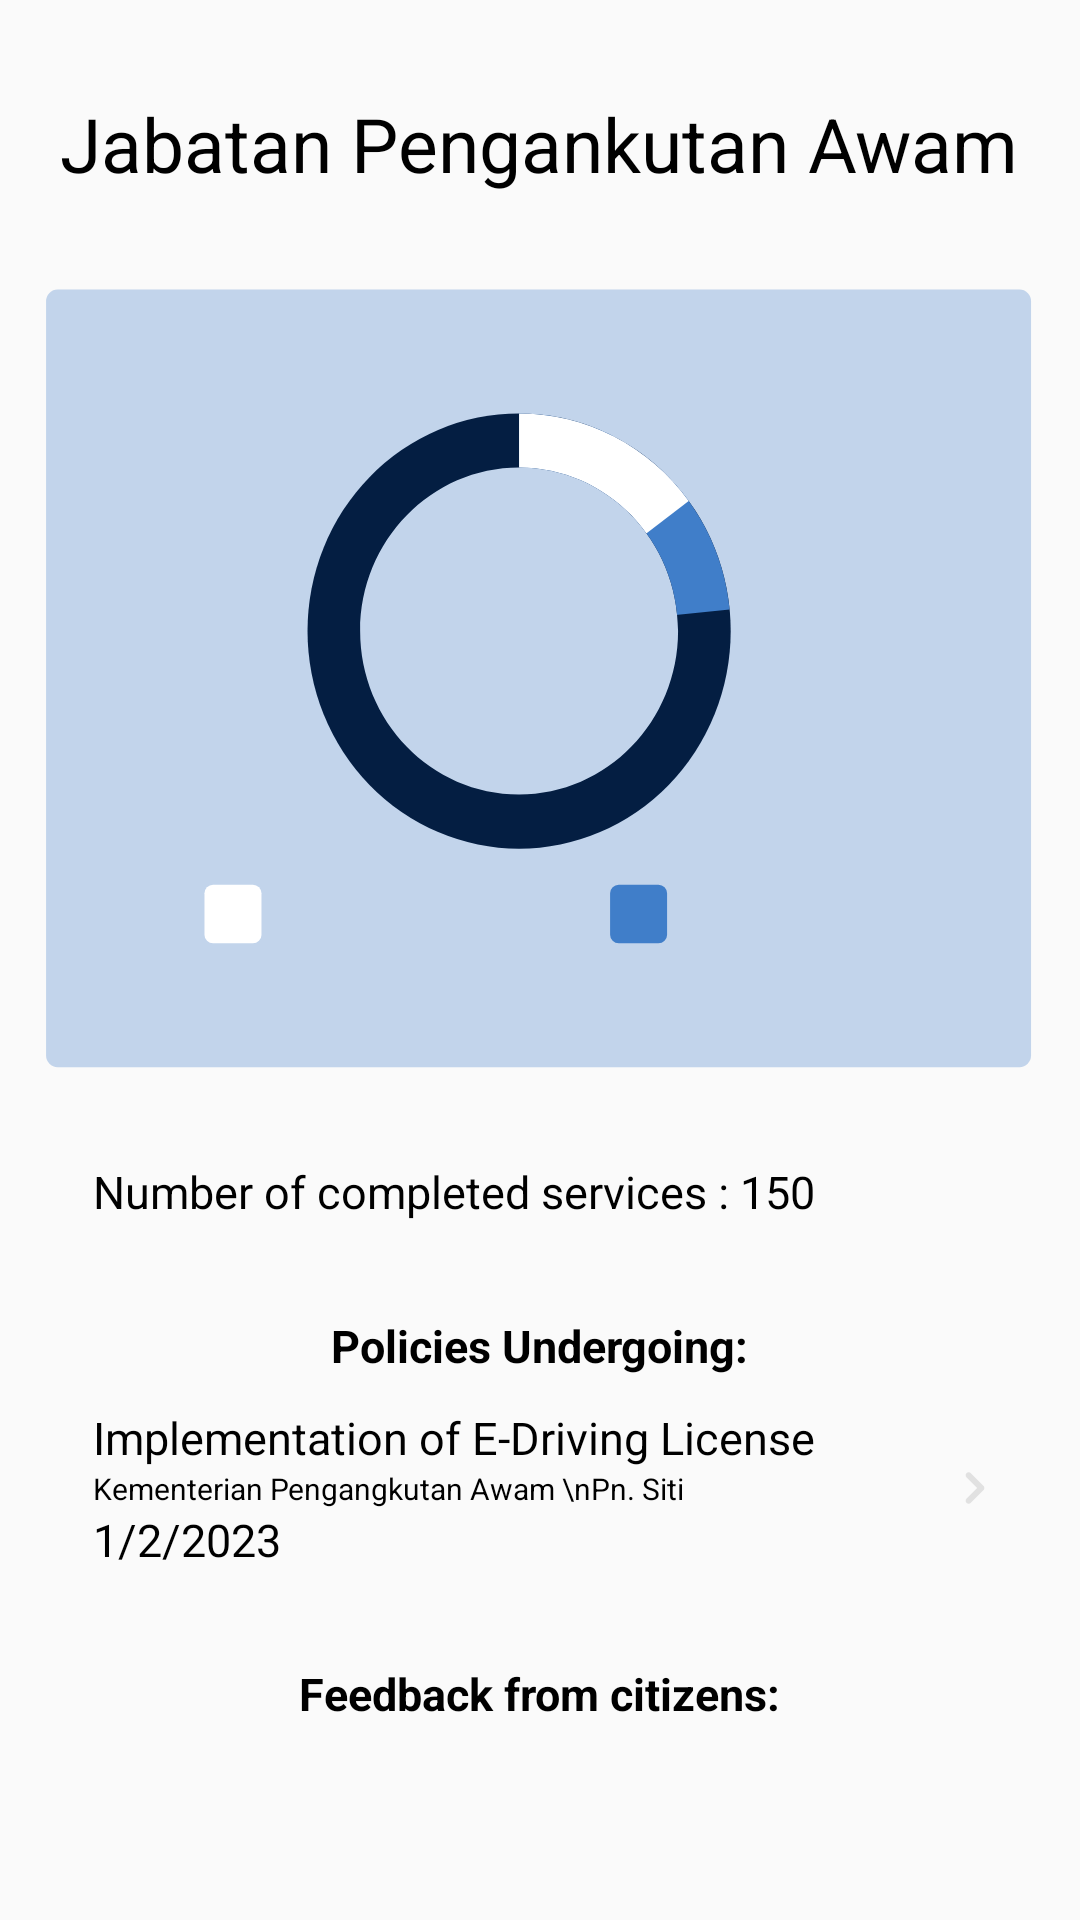

Screen size 1080*1920. Icon name, then its box in pixels as {"left": x1, "top": y1, "right": x2, "bottom": y2}:
profile right: {"left": 966, "top": 1473, "right": 984, "bottom": 1503}
